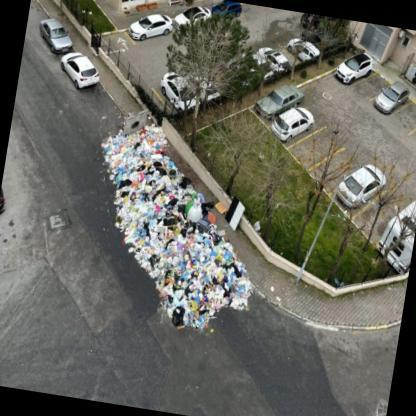Garbage: (149, 232, 257, 342), (88, 127, 179, 232), (124, 180, 209, 278)
